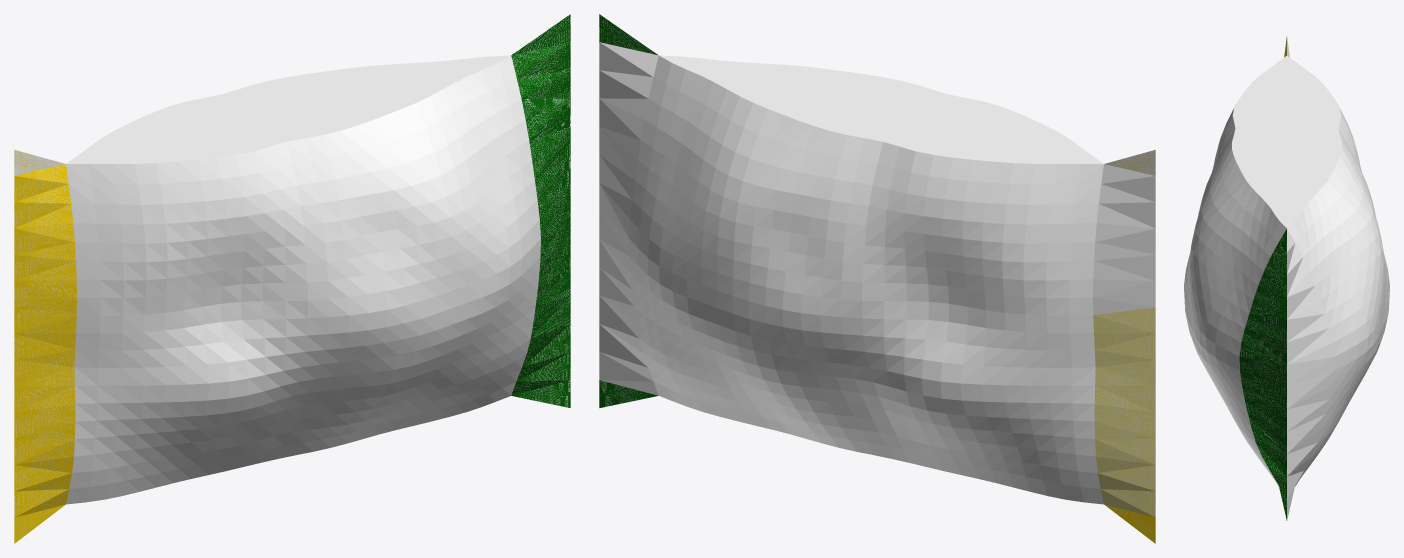
3 views of the same model, side by side, from view 1: azimuth 30°, elevation 25°; view 2: azimuth 150°, elevation 25°; view 3: azimuth 270°, elevation 25° (orthographic). The views are drawn at different scales.
Parts seen in each view (by area): view 1: cent bag of sun chips please rate; view 2: cent bag of sun chips please rate; view 3: cent bag of sun chips please rate.
Part boxes in pixels (x1,y1,x2,y2): cent bag of sun chips please rate: (14, 14, 570, 543); cent bag of sun chips please rate: (599, 14, 1155, 543); cent bag of sun chips please rate: (1184, 36, 1389, 520).
Size of the model in its own units: 8.29 by 5.61 by 3.33.
